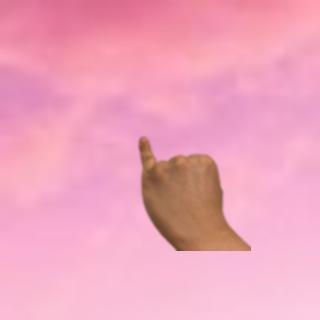FINE: (135, 133, 231, 243)
